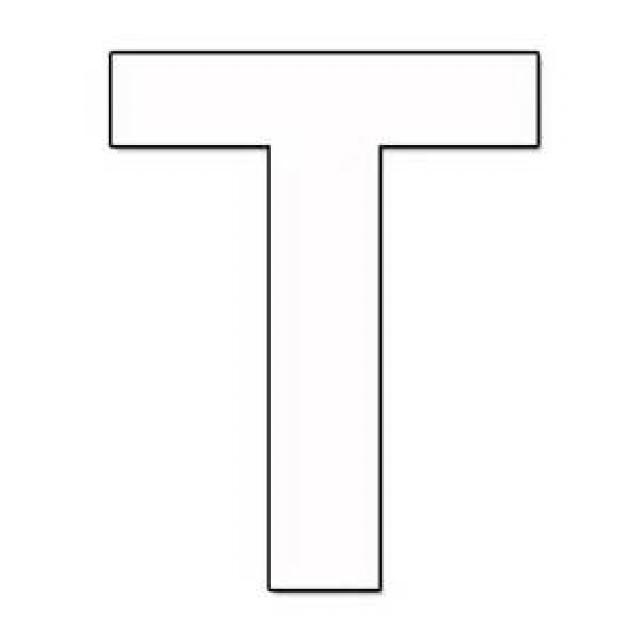T: (82, 23, 570, 598)
